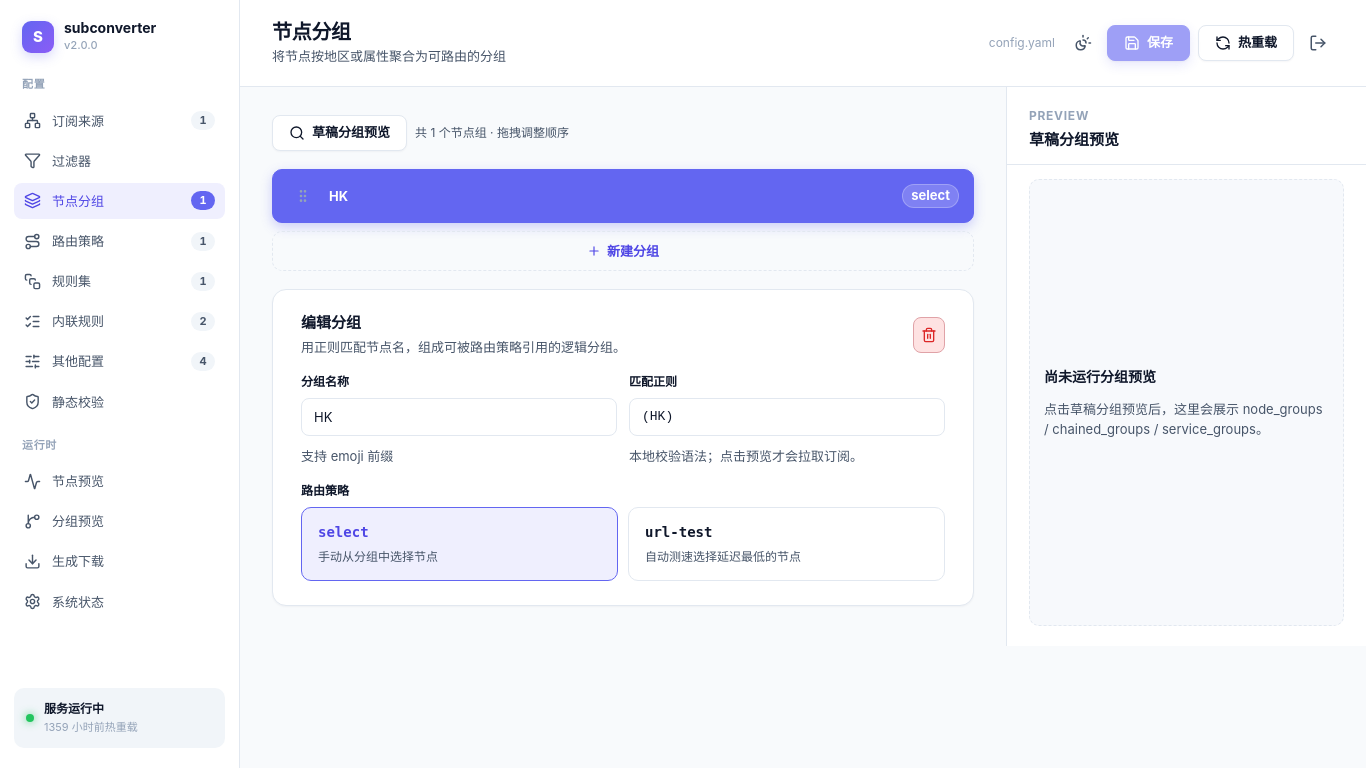
Test: high fidelity interactions › renders A3 draft preview validation diagnostics with json pointer location
The image size is (1366, 768).
Expected: the heading "节点分组" is shown, top-left (272, 20), bottom-right (351, 44)
Click the button "草稿分组预览". click: (340, 133)
box: top-left (272, 115), bottom-right (407, 151)
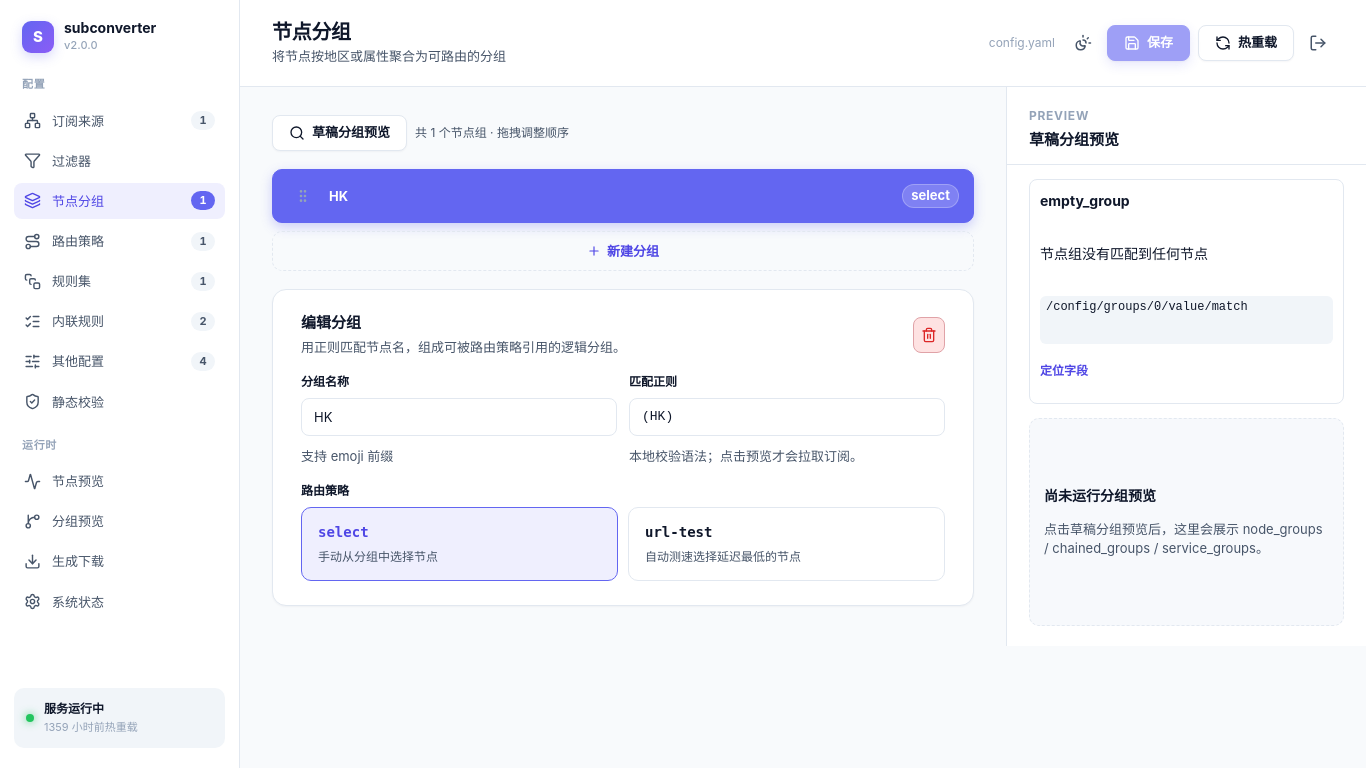
Result: the text "empty_group" is shown at top-left (1040, 192), bottom-right (1130, 209)
Result: the text "/config/groups/0/value/match" is shown at top-left (1040, 296), bottom-right (1333, 344)
Result: the button "定位字段" is shown at top-left (1040, 349), bottom-right (1088, 393)
